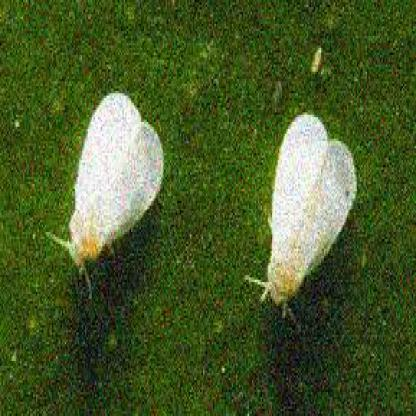whitefly: (69, 94, 164, 273), (268, 111, 356, 301)
